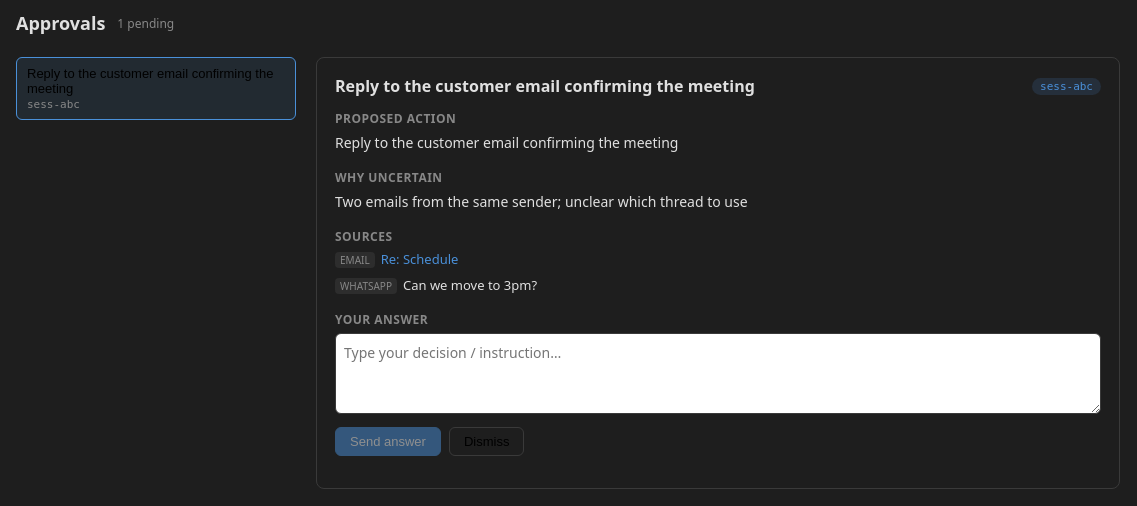
Test case: AC#3: answering › posts answer and removes the item from pending
Type "Use the most recent thread" into the text box with test id "approval-answer-input".
click(718, 374); type("Use the most recent thread")  # box top-left (335, 333), bottom-right (1101, 414)
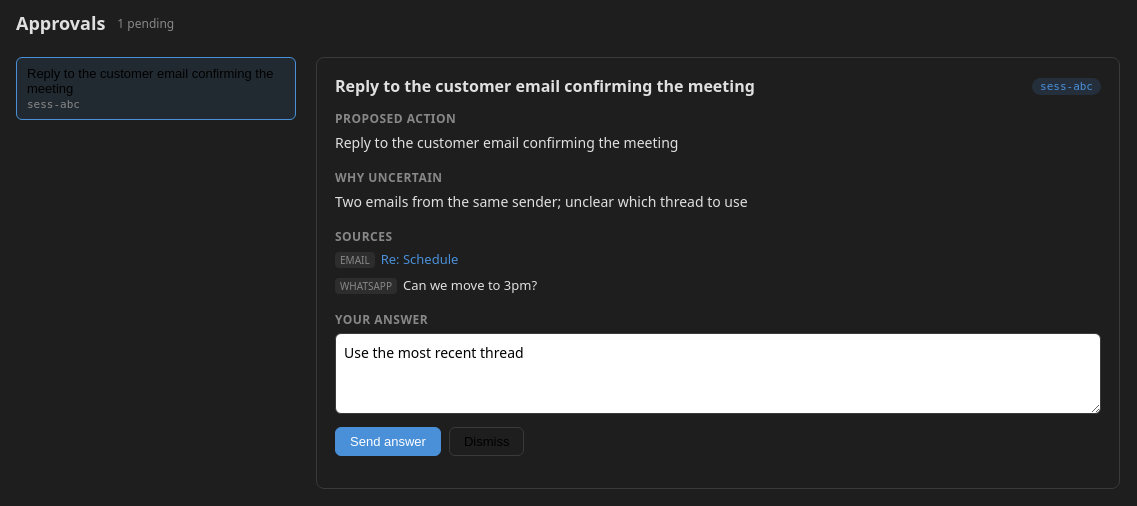
Click the button with test id "approval-submit".
click(388, 442)  # box top-left (335, 427), bottom-right (441, 456)
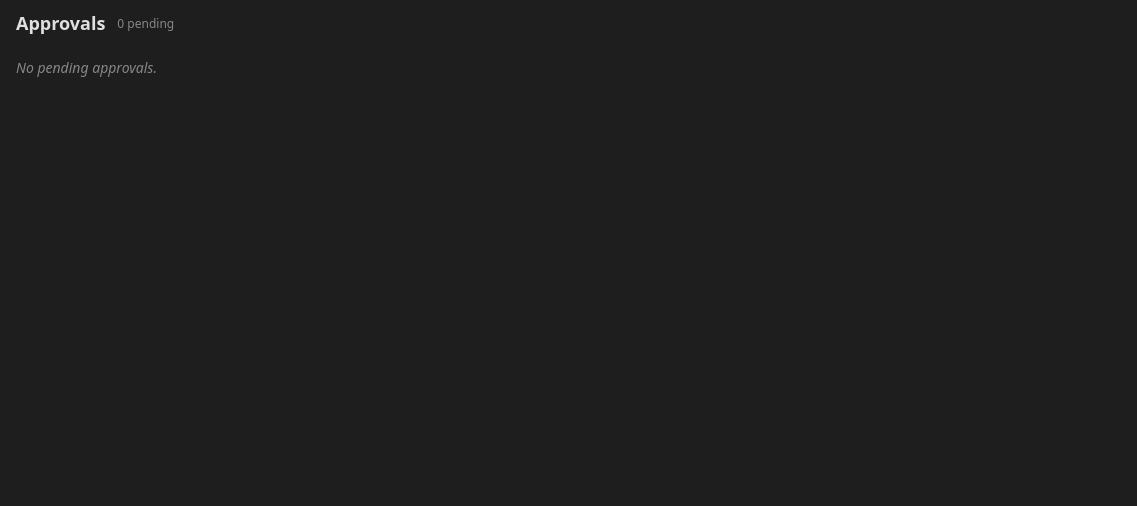
Expected: the text "No pending approvals." is shown, top-left (16, 58), bottom-right (157, 77)
